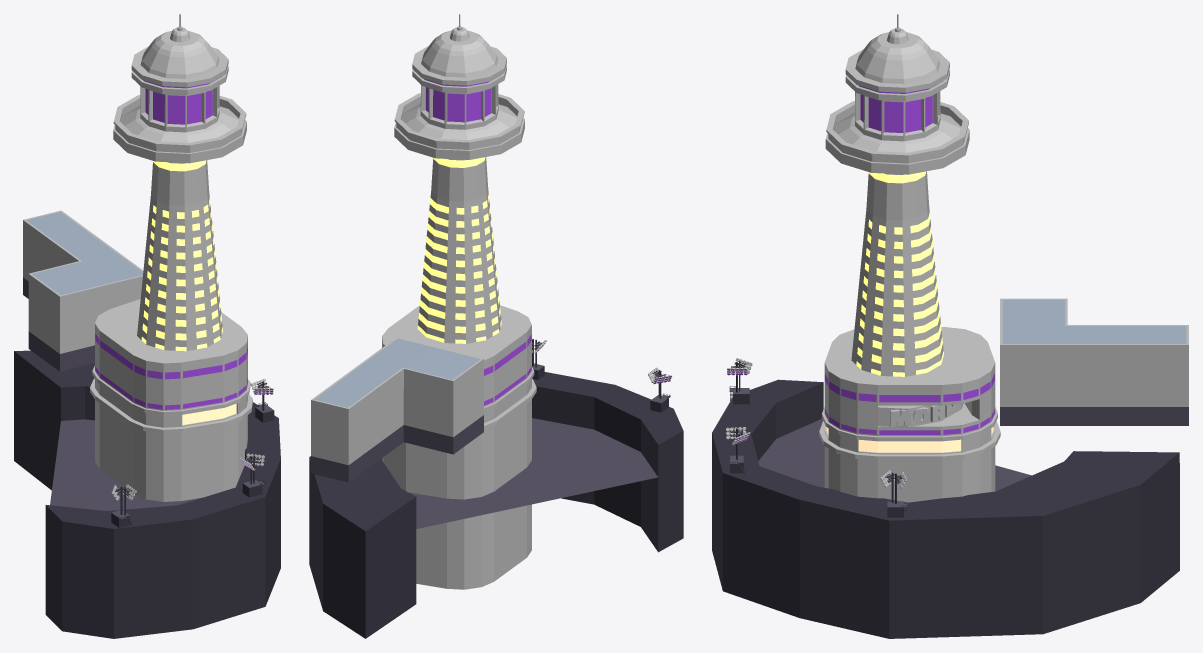
The model's file is EXT_MORP_Tower.fbx.
3 views of the same model, side by side, from view 1: azimuth 30°, elevation 25°; view 2: azimuth 150°, elevation 25°; view 3: azimuth 270°, elevation 25° (orthographic). The views are drawn at different scales.
Parts seen in each view (by area): view 1: Platform.006, MORPTower, OvalTower, MountainBuilding; view 2: Platform.006, MORPTower, OvalTower, MountainBuilding; view 3: Platform.006, MORPTower, OvalTower, MountainBuilding, MORP.
Boxes of the visible parts, x1=… form: Platform.006: x1=14, y1=350, x2=280, y2=638; MORPTower: x1=113, y1=14, x2=246, y2=351; OvalTower: x1=90, y1=299, x2=252, y2=501; MountainBuilding: x1=23, y1=210, x2=143, y2=371; Platform.006: x1=309, y1=372, x2=683, y2=638; MORPTower: x1=394, y1=14, x2=524, y2=343; OvalTower: x1=382, y1=305, x2=536, y2=589; MountainBuilding: x1=311, y1=337, x2=483, y2=482; Platform.006: x1=712, y1=379, x2=1179, y2=638; MORPTower: x1=825, y1=14, x2=969, y2=427; OvalTower: x1=819, y1=327, x2=1000, y2=502; MountainBuilding: x1=1000, y1=298, x2=1188, y2=425; MORP: x1=890, y1=404, x2=957, y2=426.
Bounding box in the file's own units: 39439 × 77179 × 56394.
